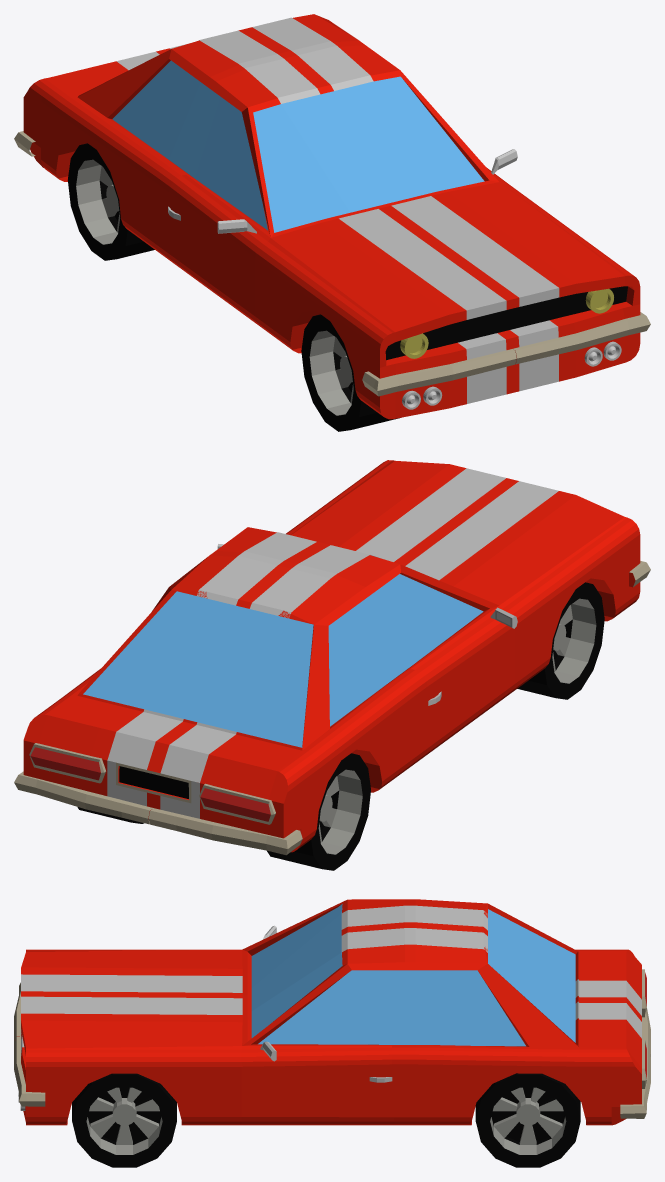
The model's file is MustangCarModel (3).fbx.
The picture shows the model from 3 angles, top to bottom: view 1: azimuth 30°, elevation 25°; view 2: azimuth 150°, elevation 25°; view 3: azimuth 270°, elevation 25°; orthographic projection. The views are drawn at different scales.
Visible parts, largest first — view 1: MustangCarFrame, FrontRightWheel, BackRightWheel; view 2: MustangCarFrame, BackRightWheel, FrontRightWheel; view 3: MustangCarFrame, BackLeftWheel, FrontLeftWheel.
Part boxes in pixels (<box>): MustangCarFrame: <box>14,14,650,419</box>; FrontRightWheel: <box>301,314,399,431</box>; BackRightWheel: <box>67,143,154,260</box>; MustangCarFrame: <box>14,460,650,855</box>; BackRightWheel: <box>267,753,370,870</box>; FrontRightWheel: <box>517,582,604,699</box>; MustangCarFrame: <box>14,899,650,1125</box>; BackLeftWheel: <box>475,1073,580,1167</box>; FrontLeftWheel: <box>72,1073,176,1167</box>.
Bounding box in the file's own units: 333 × 236 × 711.
